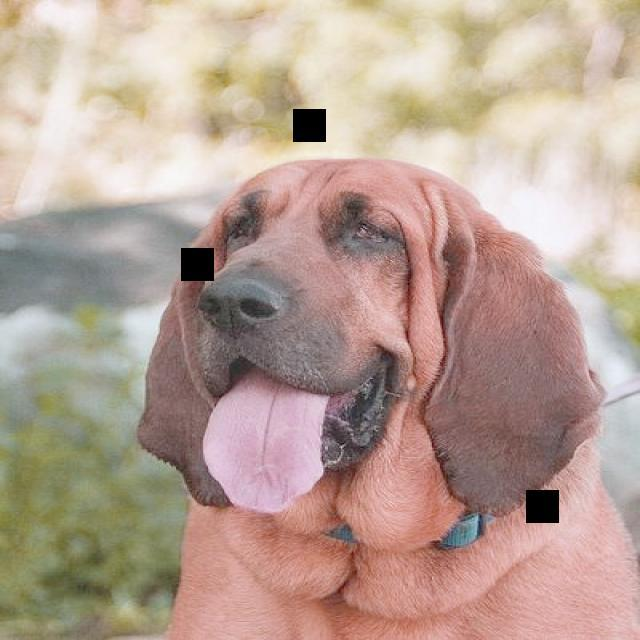adult_dog: (133, 158, 640, 640)
